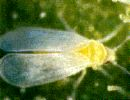whitefly: (1, 27, 129, 88)
